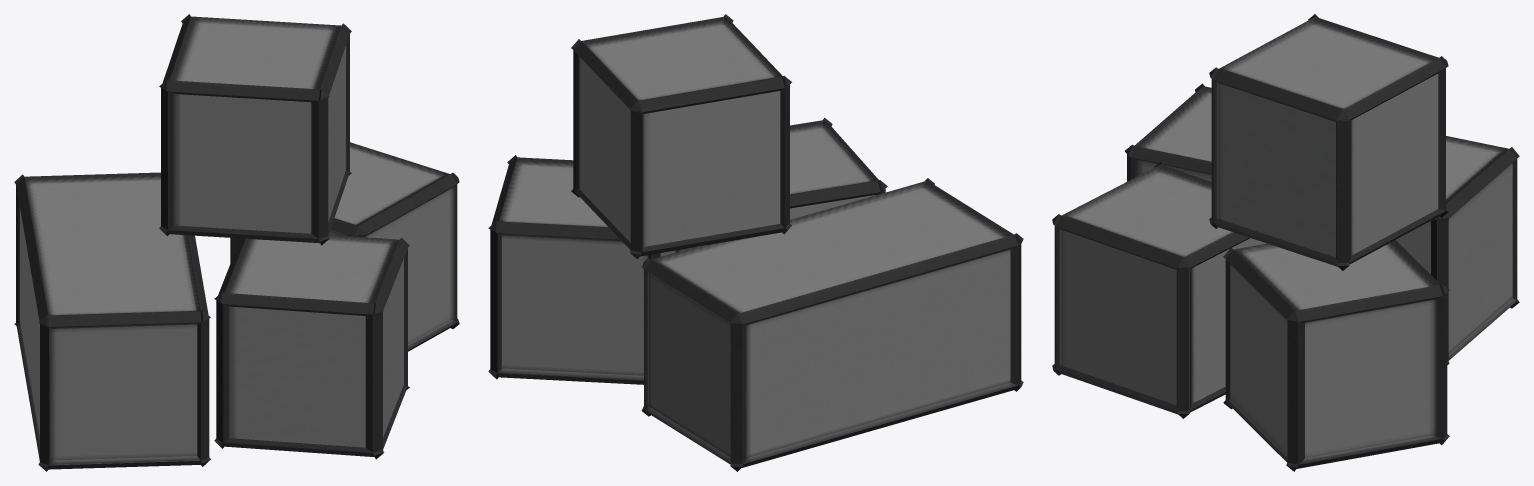
File: Storage_Crates_07.fbx
The picture shows the model from 3 angles, left to right: view 1: azimuth 30°, elevation 25°; view 2: azimuth 150°, elevation 25°; view 3: azimuth 270°, elevation 25°; orthographic projection. The views are drawn at different scales.
Parts seen in each view (by area): view 1: Storage_Crates_07; view 2: Storage_Crates_07; view 3: Storage_Crates_07.
Boxes of the visible parts, x1=… form: Storage_Crates_07: x1=14, y1=14, x2=459, y2=471; Storage_Crates_07: x1=488, y1=14, x2=1023, y2=471; Storage_Crates_07: x1=1052, y1=14, x2=1519, y2=471.
Bounding box in the file's own units: 828 × 529 × 701.
